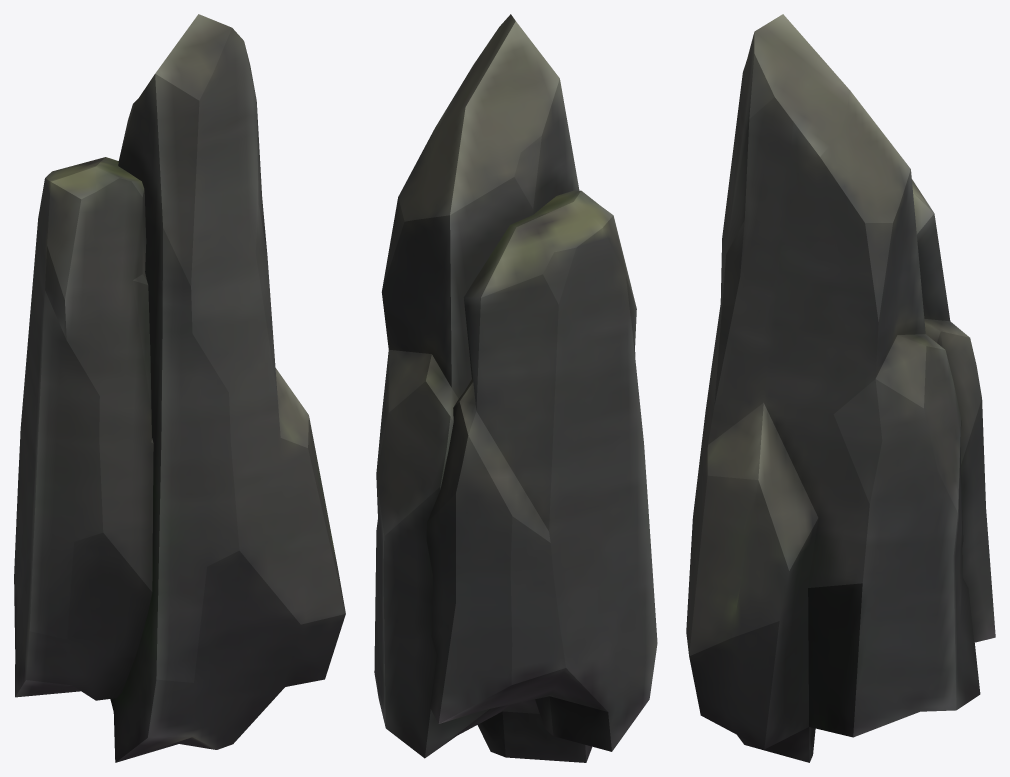
File: rock_4.glb
3 views of the same model, side by side, from view 1: azimuth 30°, elevation 25°; view 2: azimuth 150°, elevation 25°; view 3: azimuth 270°, elevation 25° (orthographic). The views are drawn at different scales.
Parts seen in each view (by area): view 1: Rock_4; view 2: Rock_4; view 3: Rock_4.
Boxes of the visible parts, x1=… form: Rock_4: x1=14, y1=14, x2=345, y2=762; Rock_4: x1=374, y1=14, x2=657, y2=762; Rock_4: x1=686, y1=14, x2=995, y2=762.
Bounding box in the file's own units: 0.8592 × 2.15 × 0.8124.
Materials: 1 (1 with a texture image).
